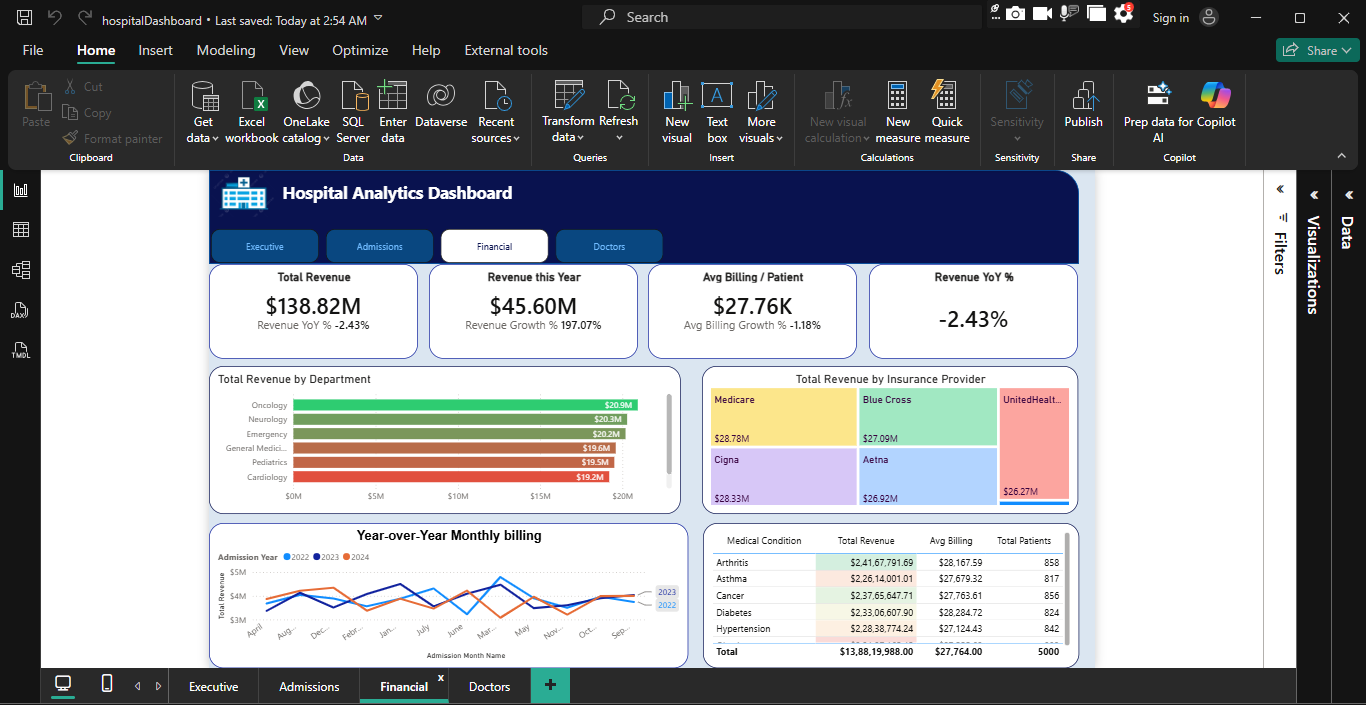

The page's visual inventory and layout, read from the dashboard file:
{"tool":"powerbi","page":{"name":"Financial","canvas":[1280,720],"ordinal":2},"visuals":[{"type":"shape","box":[0,0,1257.8,135.9],"z":0},{"type":"image","box":[0,0,101.4,67.6],"z":1000},{"type":"pageNavigator","box":[2.9,85.2,656.8,50],"z":2000},{"type":"textbox","box":[101.2,11.6,373,56.4],"z":3000},{"type":"clusteredBarChart","fields":{"Y":["hospital_cleaned.Total Revenue"],"Category":["hospital_cleaned.Department"]},"box":[0,283.4,682.4,214],"z":4000},{"type":"treemap","fields":{"Group":["hospital_cleaned.Insurance Provider"],"Values":["hospital_cleaned.Total Revenue"]},"box":[712.8,283.4,543.6,214],"z":5000},{"type":"lineChart","title":"Monthly billing trend","fields":{"Y":["hospital_cleaned.Total Revenue"],"Category":["hospital_cleaned.Admission Month Name"]},"box":[0,510.4,692.5,209.6],"z":6000},{"type":"tableEx","fields":{"Values":["hospital_cleaned.Medical Condition","hospital_cleaned.Total Revenue","hospital_cleaned.Avg Billing","hospital_cleaned.Total Patients"]},"box":[714.2,510.4,543.6,209.6],"z":7000},{"type":"cardVisual","title":"Total Revenue","fields":{"Data":["hospital_cleaned.Total Revenue"]},"box":[0,135.9,302.2,137.3],"z":8000},{"type":"cardVisual","title":"Revenue YoY %","fields":{"Data":["hospital_cleaned.Revenue YoY %"]},"box":[954.2,135.9,302.2,137.3],"z":9000},{"type":"cardVisual","title":"Avg Billing / Patient ","fields":{"Data":["hospital_cleaned.Avg Billing"]},"box":[634.7,135.9,302.2,137.3],"z":10000},{"type":"cardVisual","title":"Revenue this Year","fields":{"Data":["hospital_cleaned.Revenue This Year"]},"box":[318.1,135.9,302.2,137.3],"z":11000}]}

Visuals, with their boxes on the page's 1280x720 design canvas (x1, y1, x2, y2). These are canvas units, not pixel positions in the 1366x705 screenshot, which may show the page scaled, cropped or inside an application window:
shape: select_region(0, 0, 1258, 136)
image: select_region(0, 0, 101, 68)
pageNavigator: select_region(3, 85, 660, 135)
textbox: select_region(101, 12, 474, 68)
clusteredBarChart - hospital_cleaned.Total Revenue x hospital_cleaned.Department: select_region(0, 283, 682, 497)
treemap - hospital_cleaned.Insurance Provider x hospital_cleaned.Total Revenue: select_region(713, 283, 1256, 497)
"Monthly billing trend" lineChart: select_region(0, 510, 692, 720)
tableEx - hospital_cleaned.Medical Condition x hospital_cleaned.Total Revenue: select_region(714, 510, 1258, 720)
"Total Revenue" cardVisual: select_region(0, 136, 302, 273)
"Revenue YoY %" cardVisual: select_region(954, 136, 1256, 273)
"Avg Billing / Patient " cardVisual: select_region(635, 136, 937, 273)
"Revenue this Year" cardVisual: select_region(318, 136, 620, 273)
